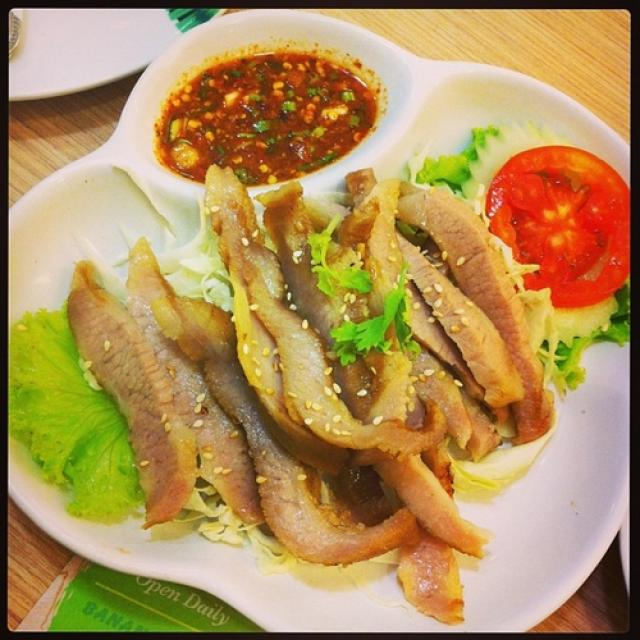猪肉菜式: (79, 200, 521, 594)
